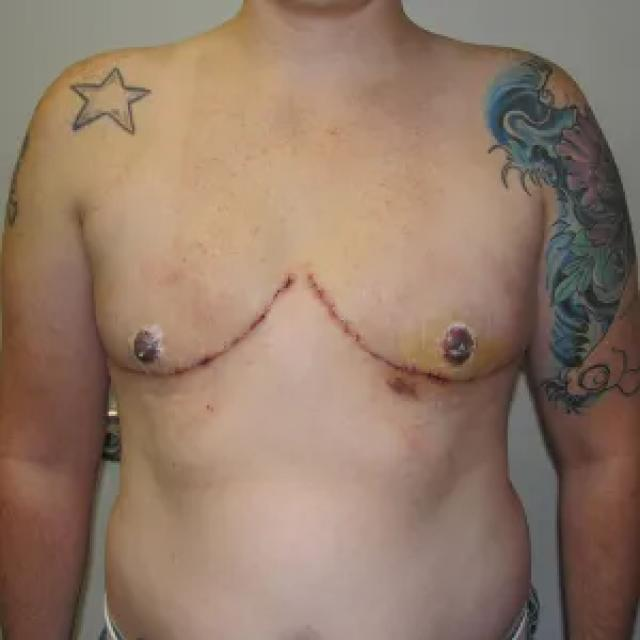Seno herido: (304, 241, 539, 410), (89, 240, 301, 405)
